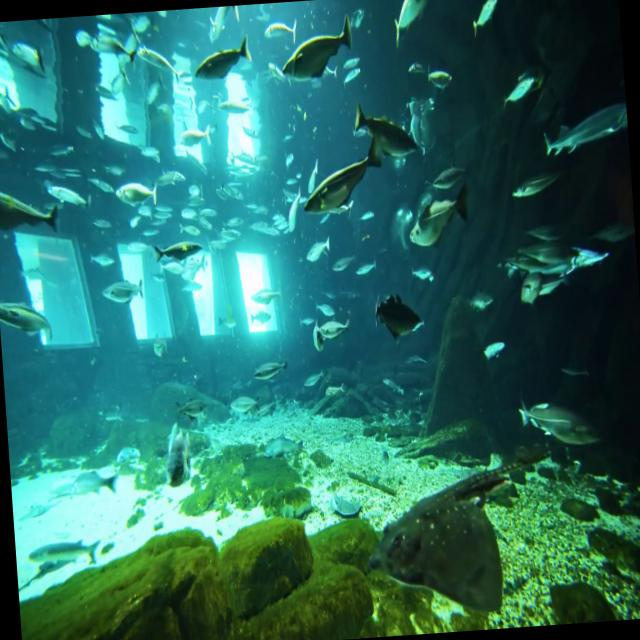fish: (536, 82, 630, 164), (298, 136, 388, 219), (396, 172, 475, 256), (514, 382, 606, 452), (274, 11, 356, 88), (352, 94, 419, 170), (151, 403, 199, 498), (188, 30, 258, 90), (370, 282, 427, 352), (0, 176, 60, 237), (0, 290, 53, 350), (492, 60, 548, 116), (150, 223, 207, 269), (502, 158, 560, 196), (461, 0, 507, 33), (250, 348, 296, 381)
